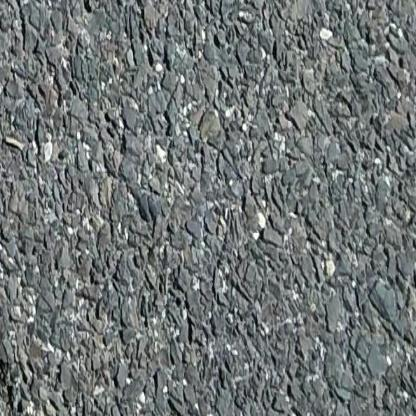Cracks: (0, 295, 28, 416)
